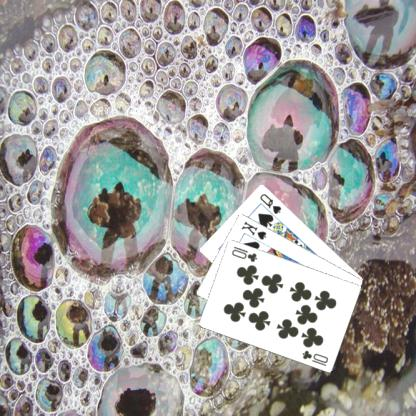10C: (230, 243, 260, 263), (301, 348, 331, 368)
KS: (240, 218, 270, 241)
QS: (259, 190, 284, 216)
